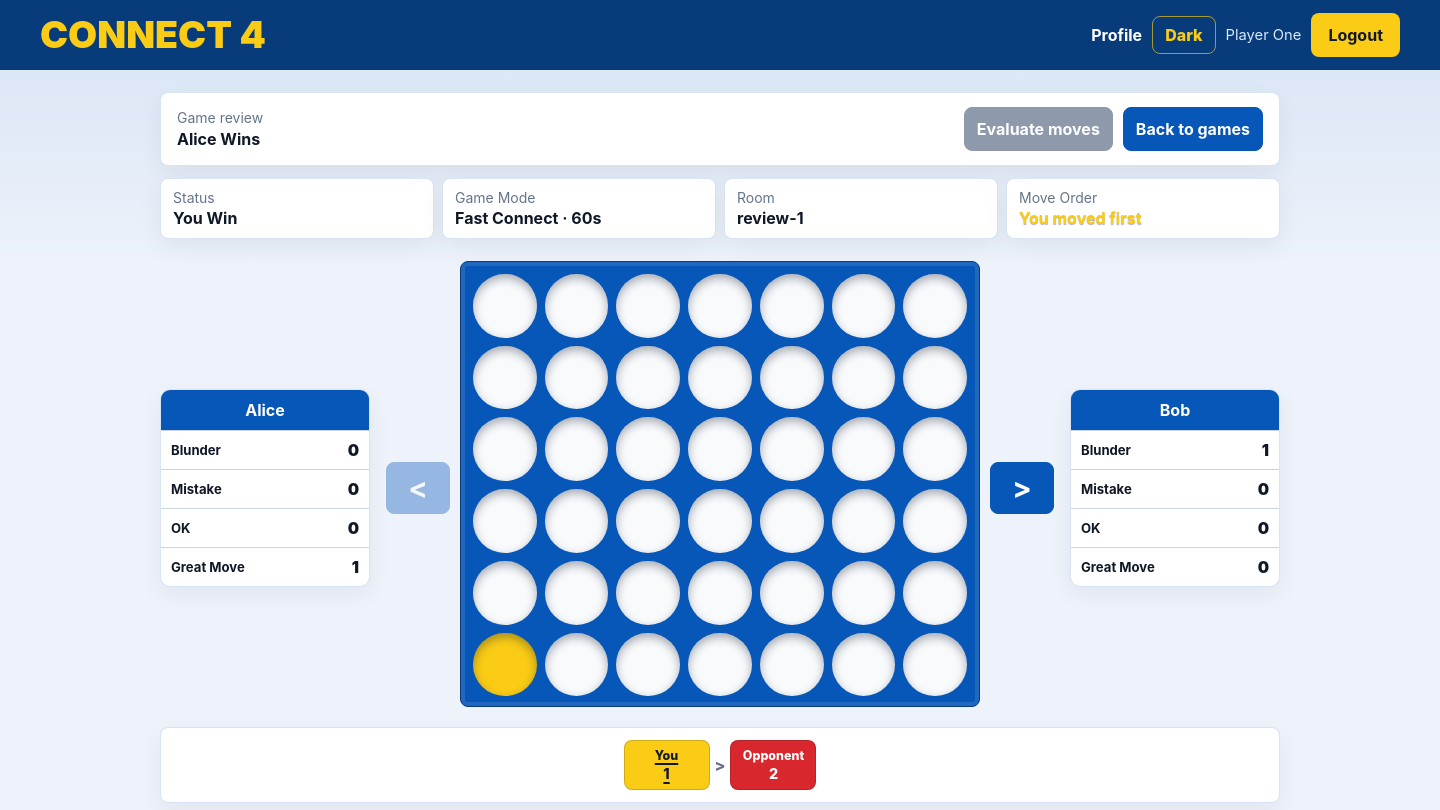
Scenario: application behavior › renders completed review navigation, evaluation totals, and the full move log without opening a socket
The width and height of the screenshot is (1440, 810).
expect the table named "Board after move 1" is shown: met, box [460,261,980,707]
expect the text "Fast Connect · 60s" is shown: met, box [455,208,602,228]
Click the button named "Next move" at (1022, 488), box [990,462,1054,514]
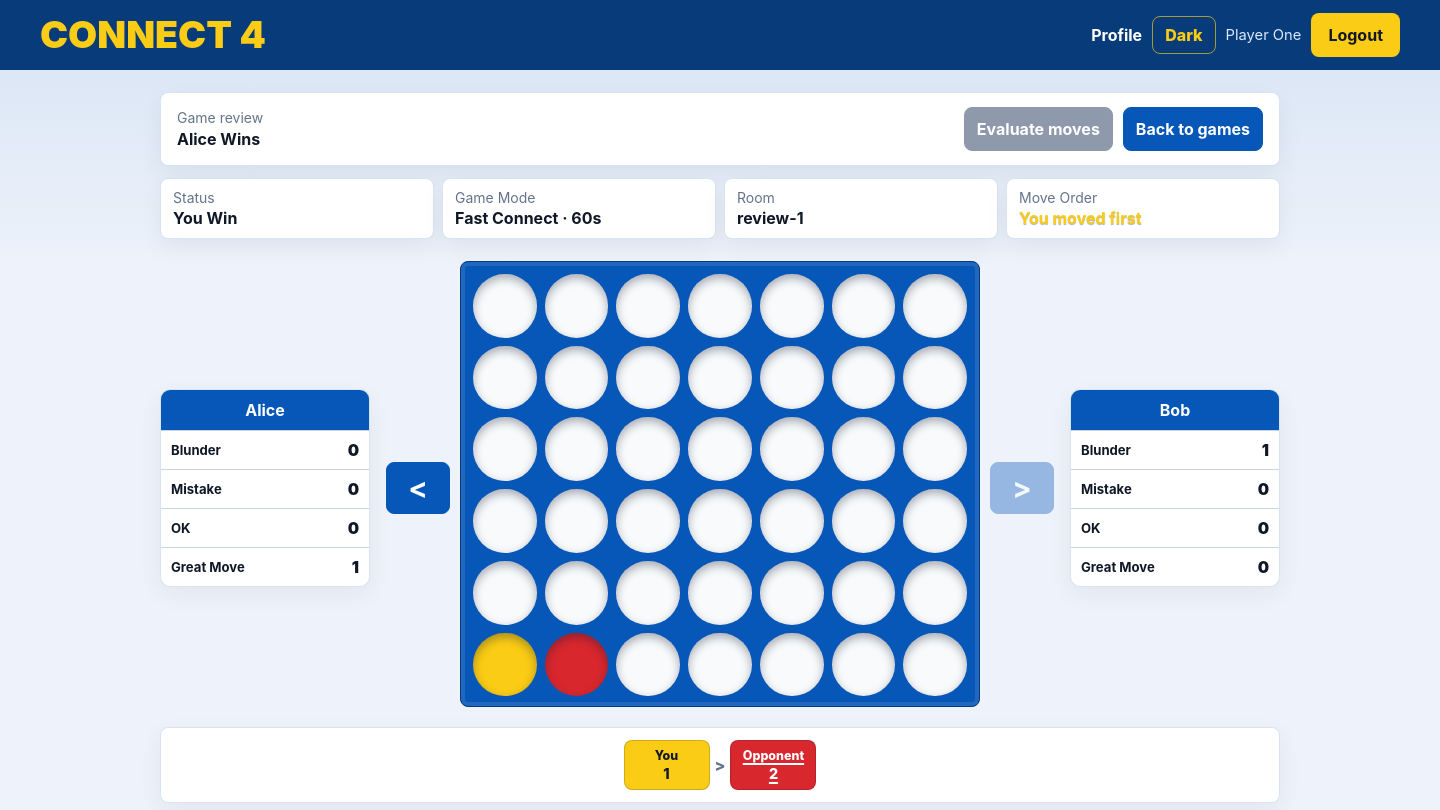
expect the table named "Board after move 2" is shown: met, box [460,261,980,707]
